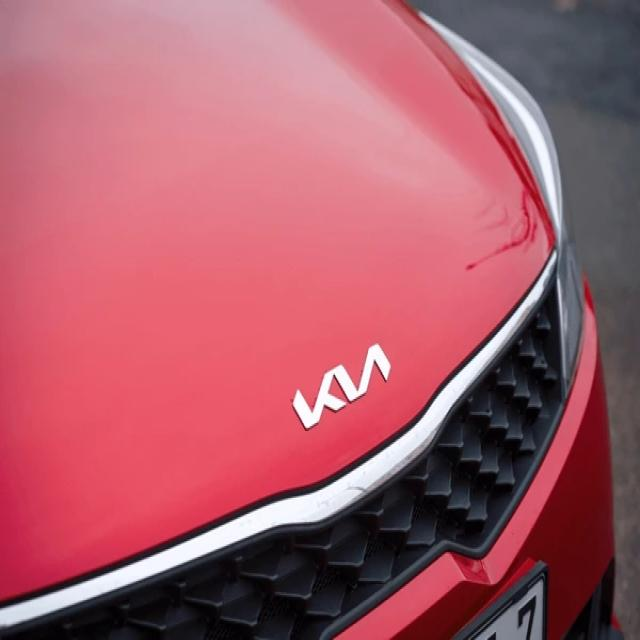kia: (289, 338, 395, 431)
